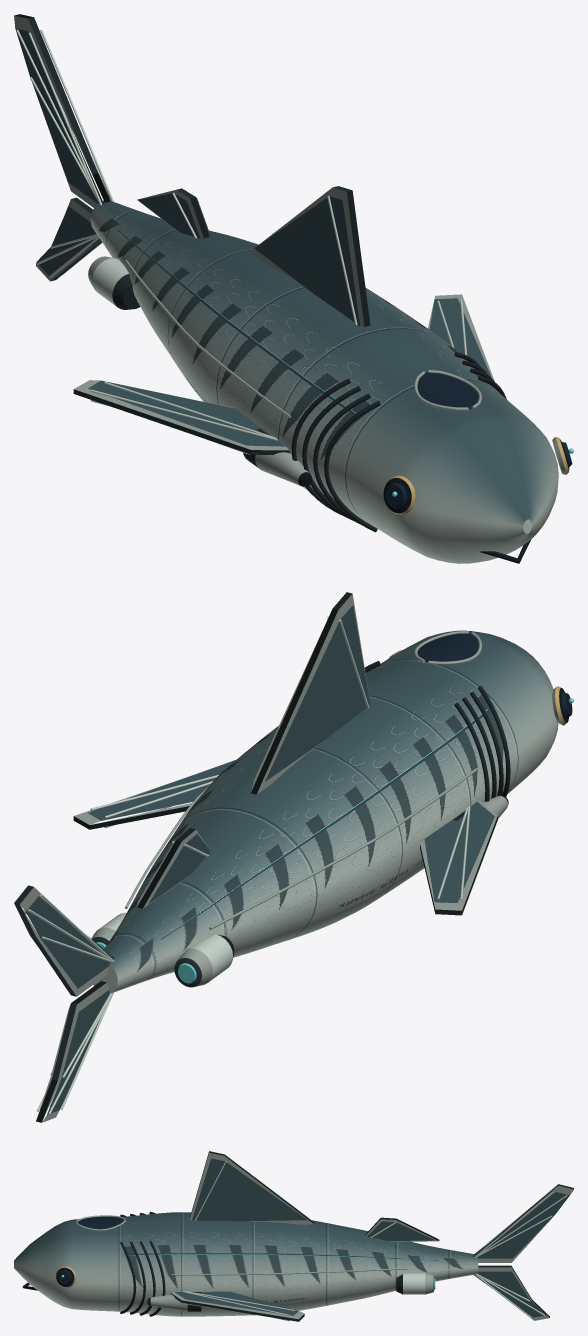
Rendered from tiger_shark.glb.
3 renders of one model, top to bottom at view 1: azimuth 30°, elevation 25°; view 2: azimuth 150°, elevation 25°; view 3: azimuth 270°, elevation 25°, orthographic. The views are drawn at different scales.
Parts seen in each view (by area): view 1: tiger_shark_hull; view 2: tiger_shark_hull; view 3: tiger_shark_hull.
Boxes of the visible parts, left/top/right/bottom form: tiger_shark_hull: left=14, top=14, right=573, bottom=563; tiger_shark_hull: left=14, top=592, right=573, bottom=1122; tiger_shark_hull: left=14, top=1151, right=573, bottom=1321.
Size of the model in its own units: 105 by 79.56 by 240.
Materials: 1 (1 with a texture image).
